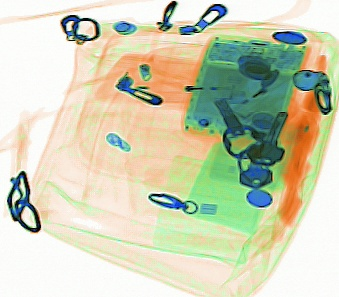lighter: (149, 80, 247, 105)
